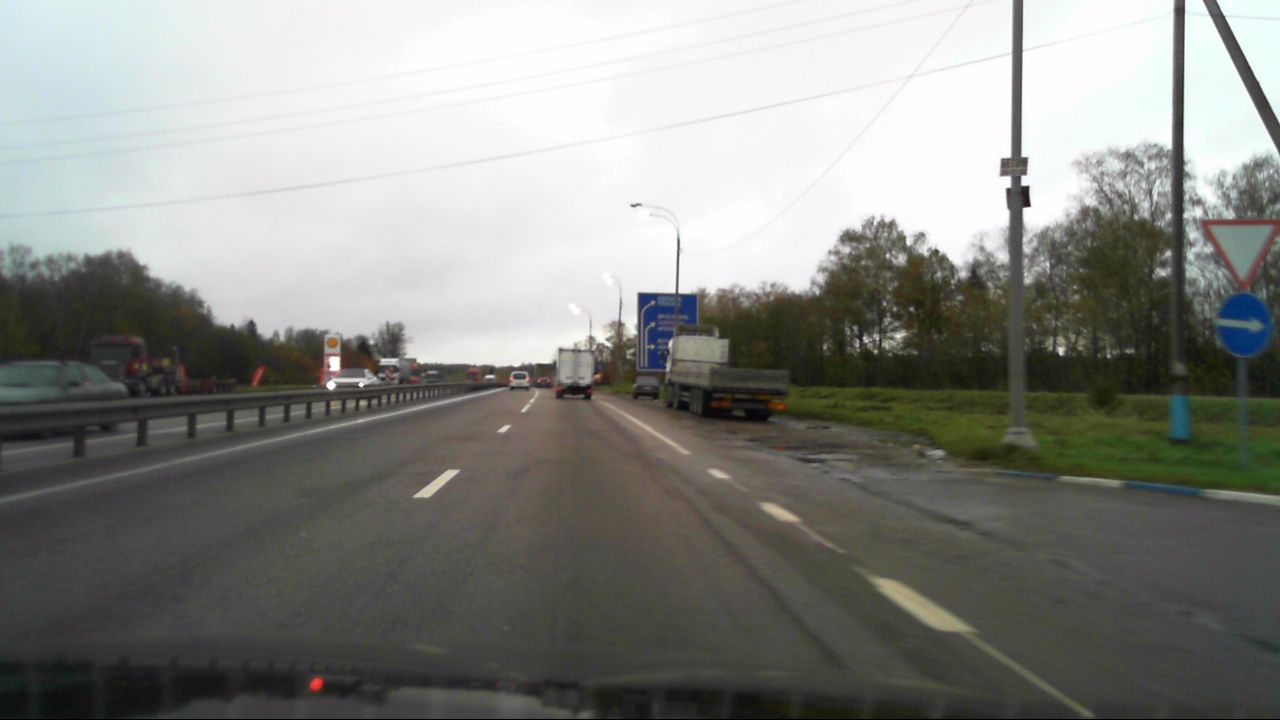Turn Right: (1214, 293, 1272, 358)
